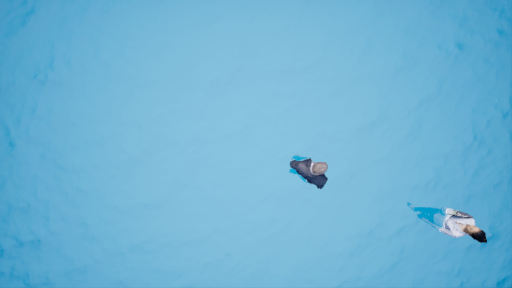person: (405, 201, 490, 245), (288, 154, 331, 190)
